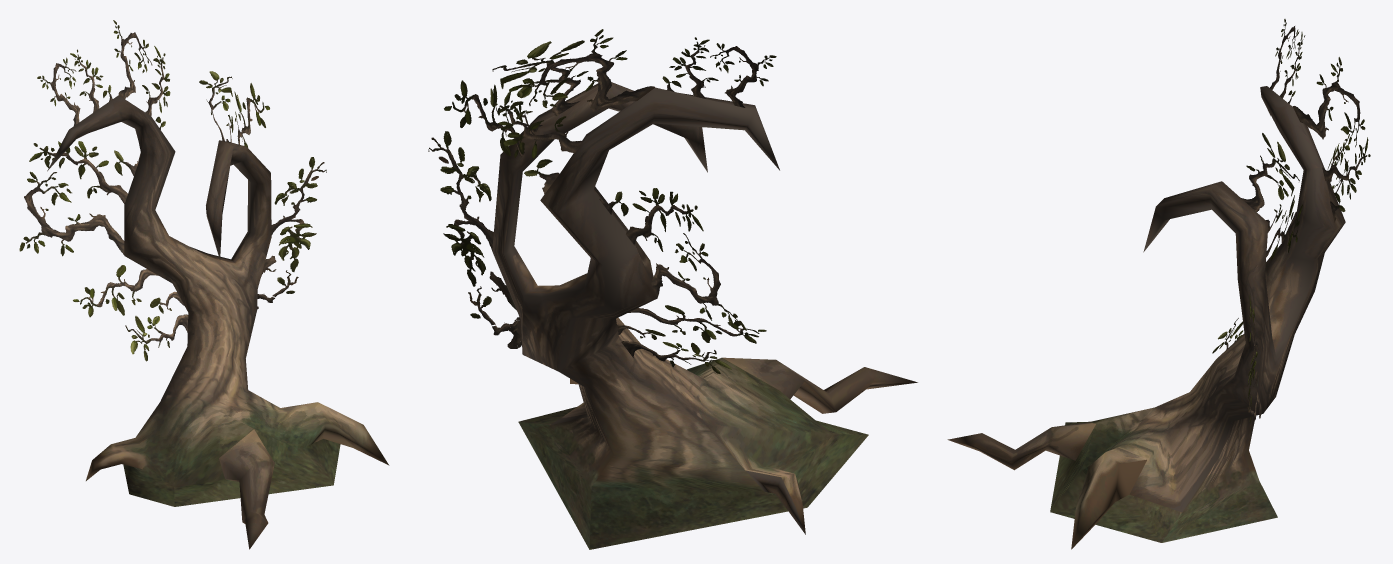
Rendered from plants_gnarled_tree_trunks03.fbx.
3 views of the same model, side by side, from view 1: azimuth 30°, elevation 25°; view 2: azimuth 150°, elevation 25°; view 3: azimuth 270°, elevation 25° (orthographic). The views are drawn at different scales.
Parts seen in each view (by area): view 1: Material_#238682934/fancy_tree; view 2: Material_#238682934/fancy_tree; view 3: Material_#238682934/fancy_tree.
Boxes of the visible parts, x1,y1,x2,y2 form: Material_#238682934/fancy_tree: (19, 20, 389, 549); Material_#238682934/fancy_tree: (428, 29, 917, 549); Material_#238682934/fancy_tree: (947, 19, 1370, 549).
Bounding box in the file's own units: 7 × 9.85 × 8.51.
